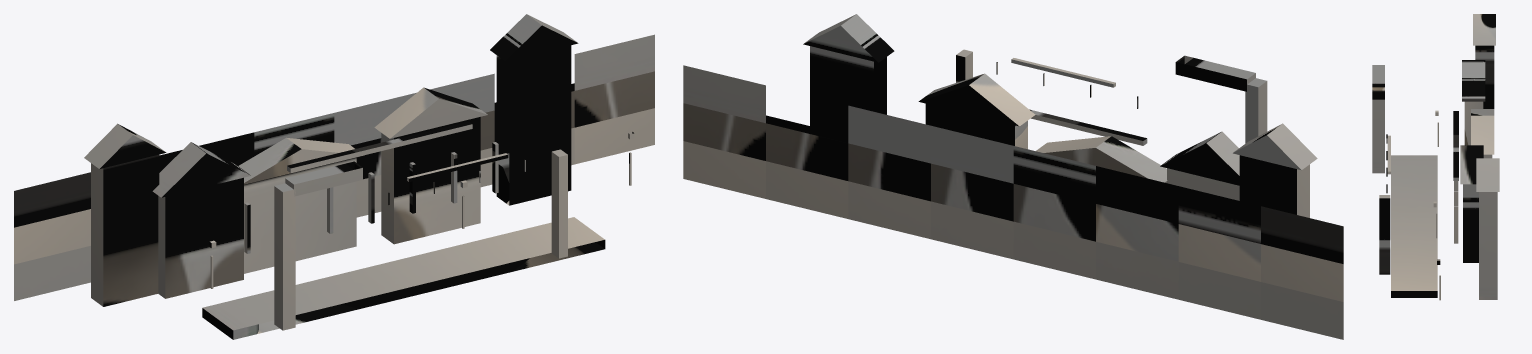
File: environment.obj
The picture shows the model from 3 angles, left to right: view 1: azimuth 30°, elevation 25°; view 2: azimuth 150°, elevation 25°; view 3: azimuth 270°, elevation 25°; orthographic projection. The views are drawn at different scales.
Parts seen in each view (by area): view 1: RND_WalkBand_EnvironmentBakedAtlas; view 2: RND_WalkBand_EnvironmentBakedAtlas; view 3: RND_WalkBand_EnvironmentBakedAtlas.
Boxes of the visible parts, <box> form: RND_WalkBand_EnvironmentBakedAtlas: <box>14,14,654,339</box>; RND_WalkBand_EnvironmentBakedAtlas: <box>683,14,1343,339</box>; RND_WalkBand_EnvironmentBakedAtlas: <box>1372,14,1499,300</box>.
Bounding box in the file's own units: 31 × 8.49 × 8.16.
